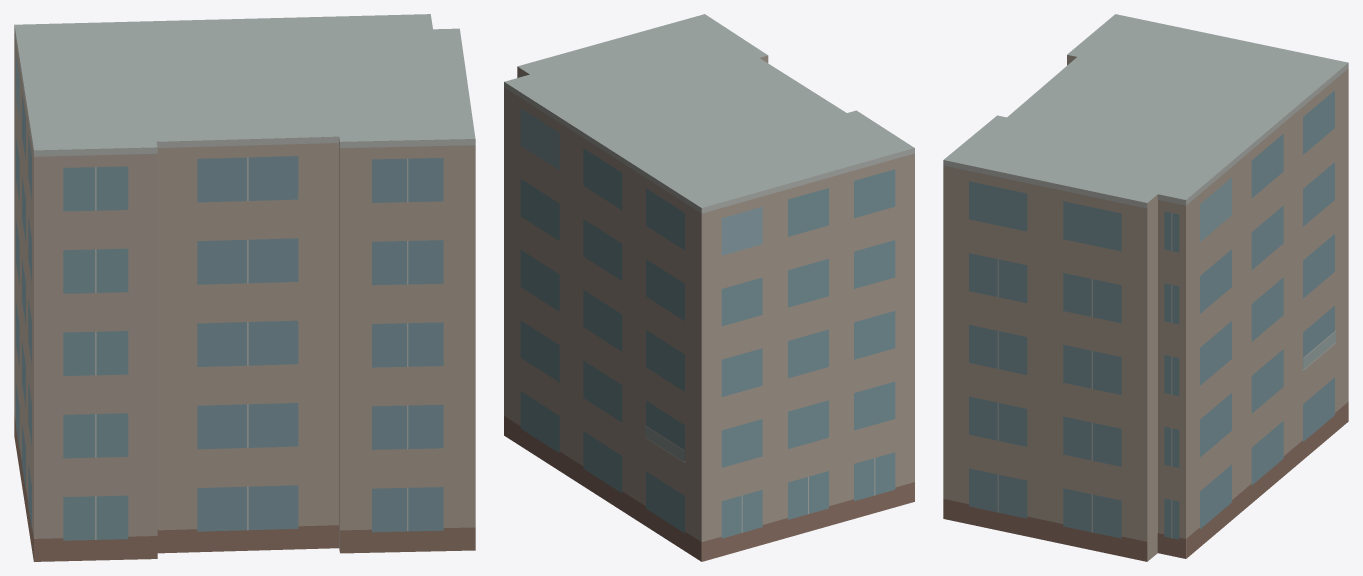
The model's file is survey-upis-33022404.glb.
3 views of the same model, side by side, from view 1: azimuth 30°, elevation 25°; view 2: azimuth 150°, elevation 25°; view 3: azimuth 270°, elevation 25° (orthographic). The views are drawn at different scales.
Parts seen in each view (by area): view 1: survey-upis-33022404.tmp; view 2: survey-upis-33022404.tmp; view 3: survey-upis-33022404.tmp.
Boxes of the visible parts, x1,y1,x2,y2 form: survey-upis-33022404.tmp: (14, 14, 475, 561); survey-upis-33022404.tmp: (504, 14, 914, 561); survey-upis-33022404.tmp: (943, 14, 1348, 561).
Size of the model in its own units: 17.97 by 15.9 by 16.28.
